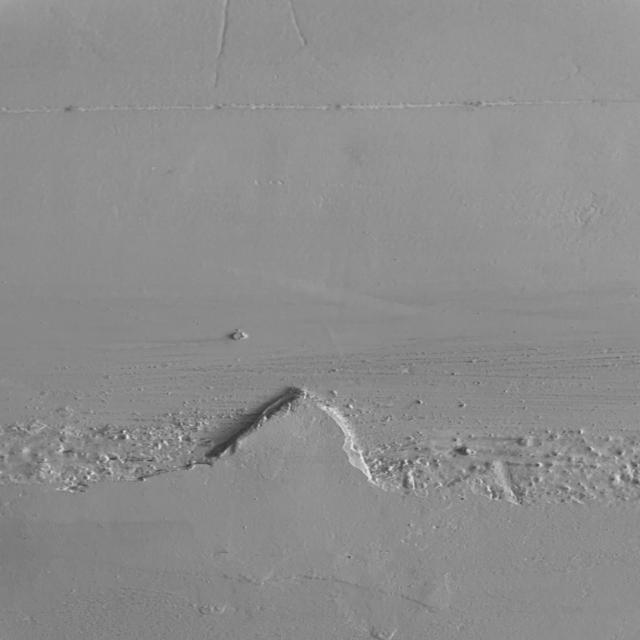rough and patchy surface: (0, 321, 640, 516), (22, 564, 628, 640), (2, 95, 640, 134), (196, 0, 335, 98)
